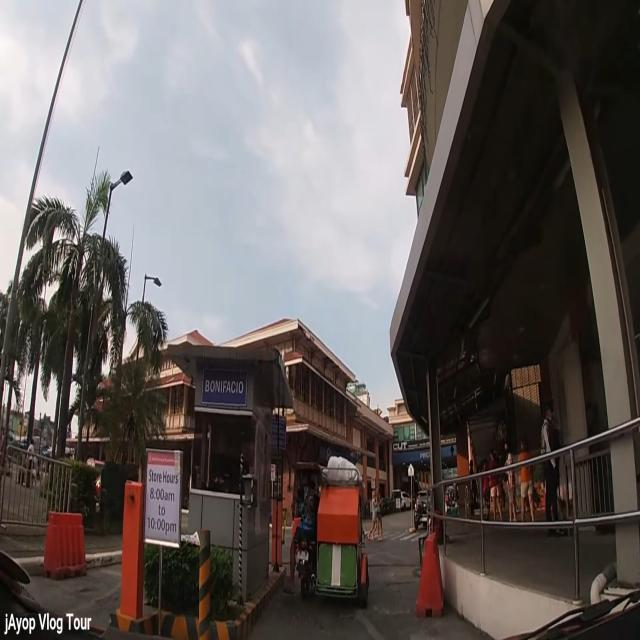car: (414, 490, 434, 530), (391, 489, 412, 512)
tricycle: (292, 453, 372, 608)
